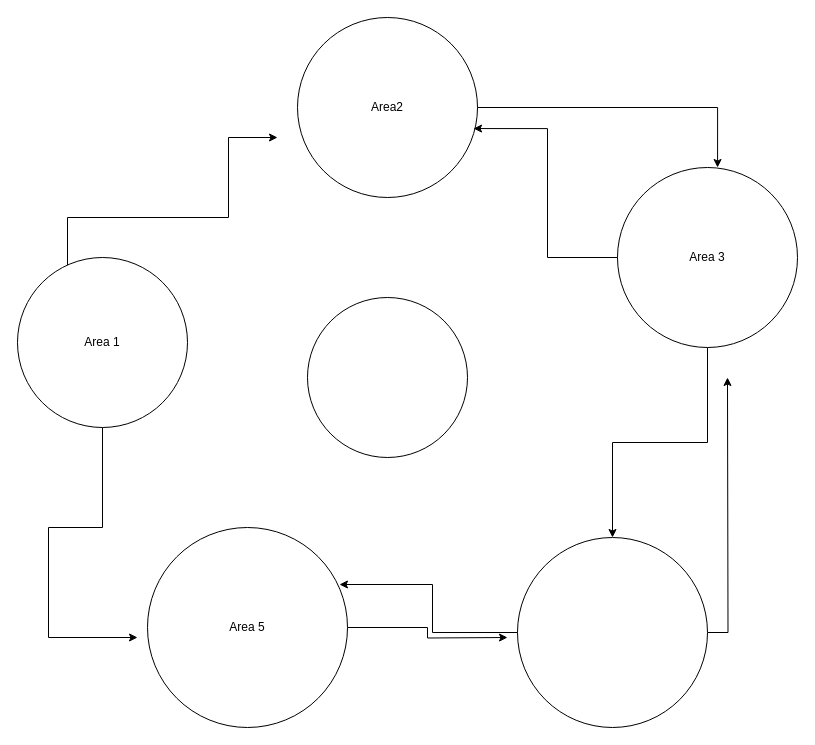
Some shapes in this 815 by 745 pixel diagram are drawn without their labels. Here are the shapes that lost their labels. From the top down, the box of each, then its label:
(306, 296, 468, 458): Area 6
(516, 536, 708, 728): Area 4
